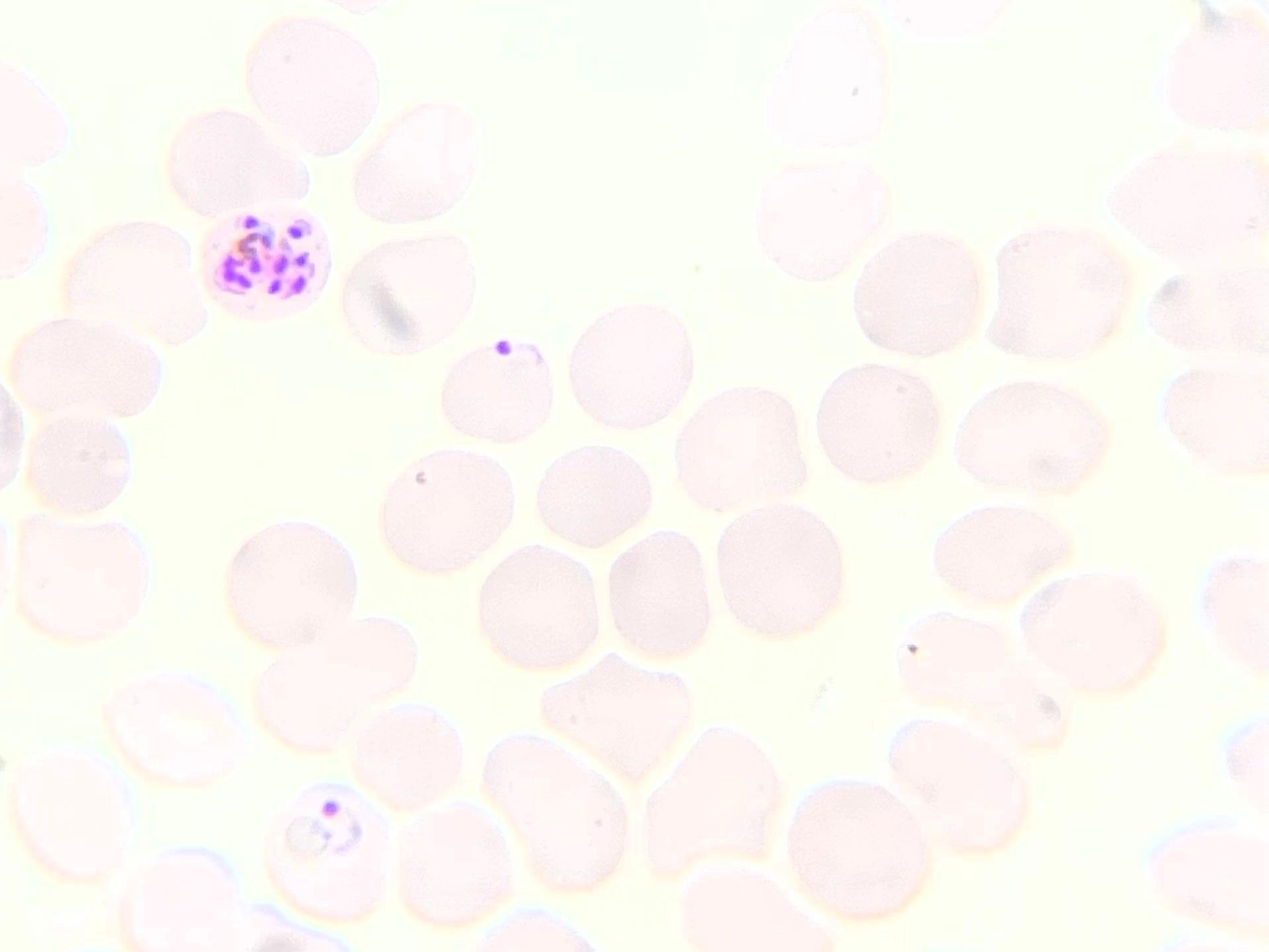Infected: (271, 781, 407, 918), (441, 334, 557, 449), (210, 215, 335, 310)
Uninfected: (889, 609, 1065, 757), (486, 733, 632, 898), (251, 622, 422, 752), (784, 779, 942, 916), (641, 725, 791, 869), (886, 718, 1033, 861), (539, 655, 692, 790), (7, 506, 152, 647), (60, 217, 209, 353), (248, 14, 381, 162), (985, 232, 1131, 365), (1118, 144, 1269, 270), (223, 523, 365, 652), (756, 151, 893, 282), (5, 751, 142, 879), (99, 674, 251, 789), (714, 510, 846, 642), (379, 449, 514, 576), (10, 316, 165, 426), (954, 384, 1112, 491), (852, 232, 987, 356), (476, 544, 603, 672), (565, 305, 697, 428), (1137, 252, 1269, 373), (342, 237, 479, 353), (1032, 569, 1160, 693), (350, 105, 477, 229), (166, 113, 313, 220), (393, 798, 513, 928), (675, 391, 808, 508), (936, 508, 1075, 618), (820, 358, 944, 480), (603, 526, 721, 652), (106, 845, 239, 952), (352, 696, 464, 809), (20, 404, 134, 514), (679, 870, 829, 952), (1154, 366, 1269, 470), (539, 444, 657, 544)
